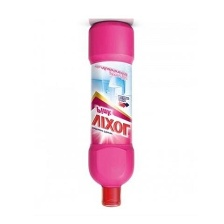cleaning_solution: (87, 18, 136, 209)
